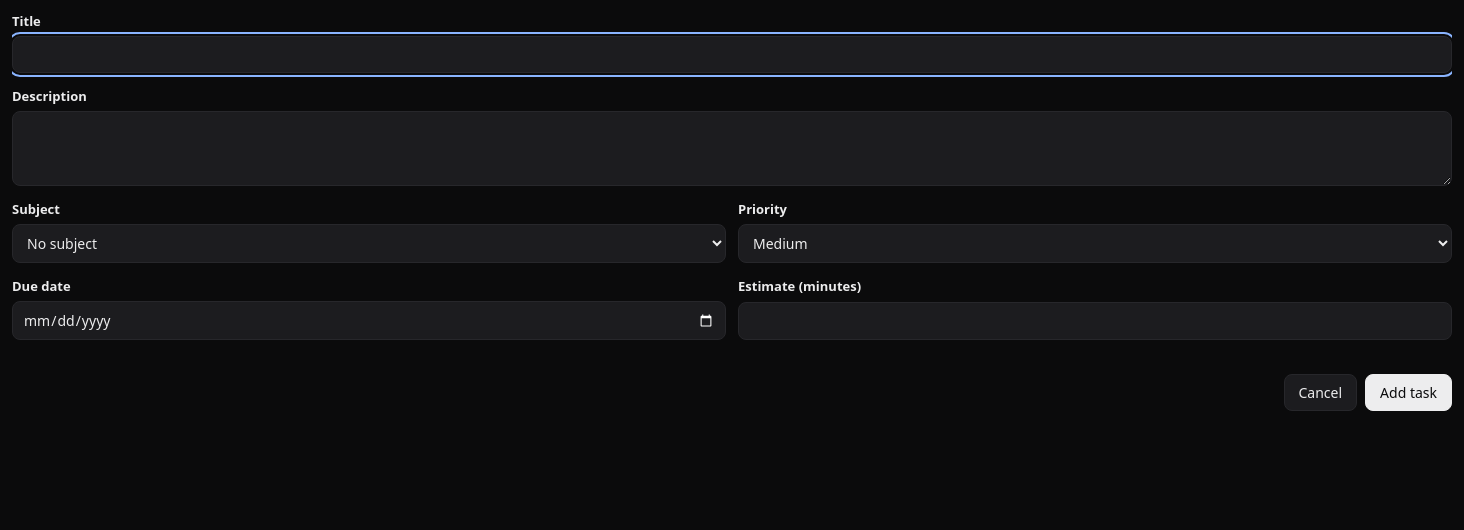
Test: TaskForm: dependent subject/chapter dropdowns › shows a backend validation error for the chapter field
Select "Biology" in the dropdown labelled "Subject" at (369, 244), box [12,224,726,263]
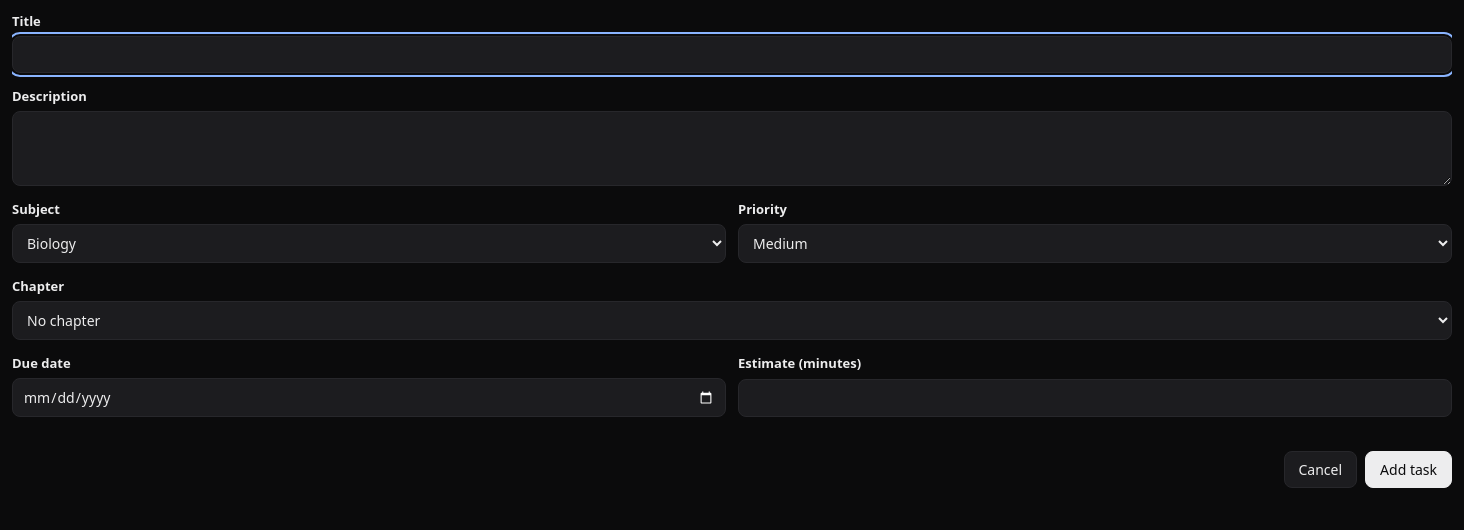
Click the button "Add task" at (1409, 470), box [1365,451,1452,488]
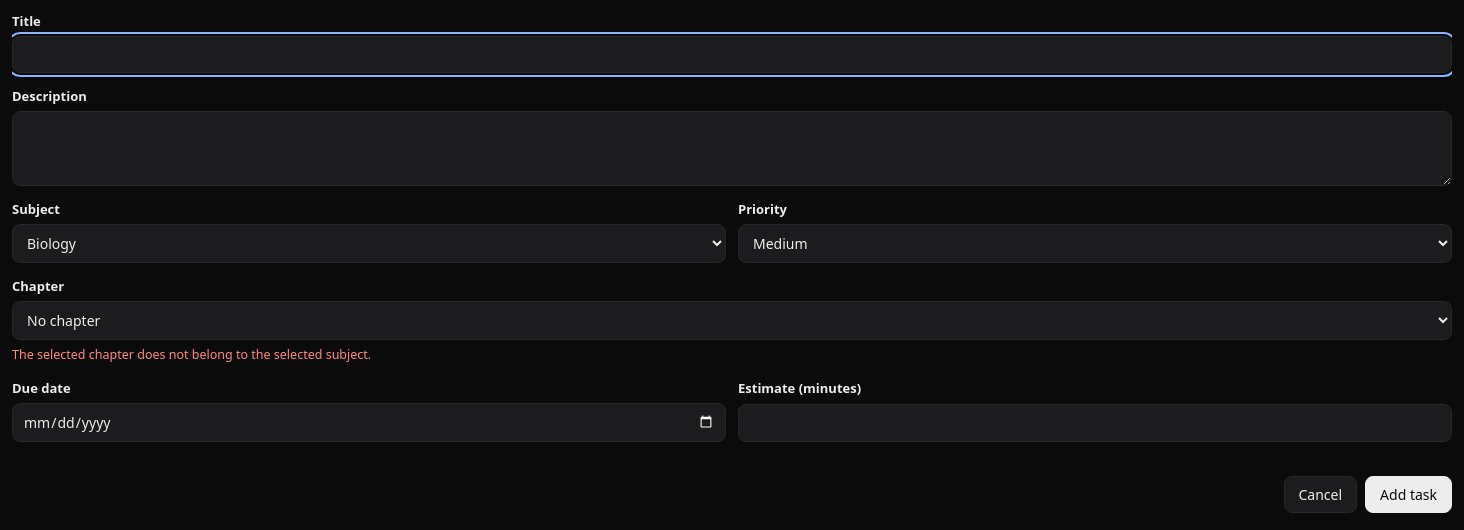
Check: the text "The selected chapter does not belong to the selected subject." is shown, box [12,346,371,363]
